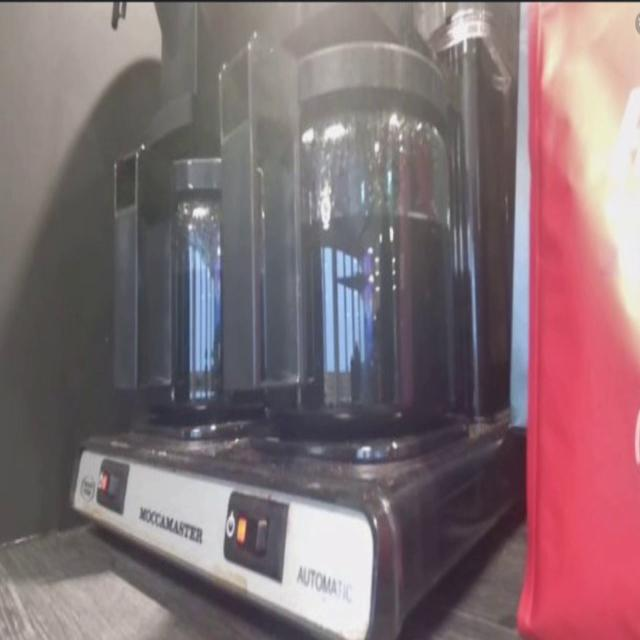coffee: (231, 32, 463, 444), (136, 156, 267, 431)
